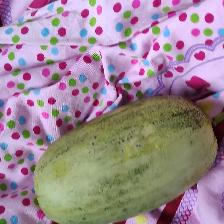gua: (43, 138, 191, 201)
